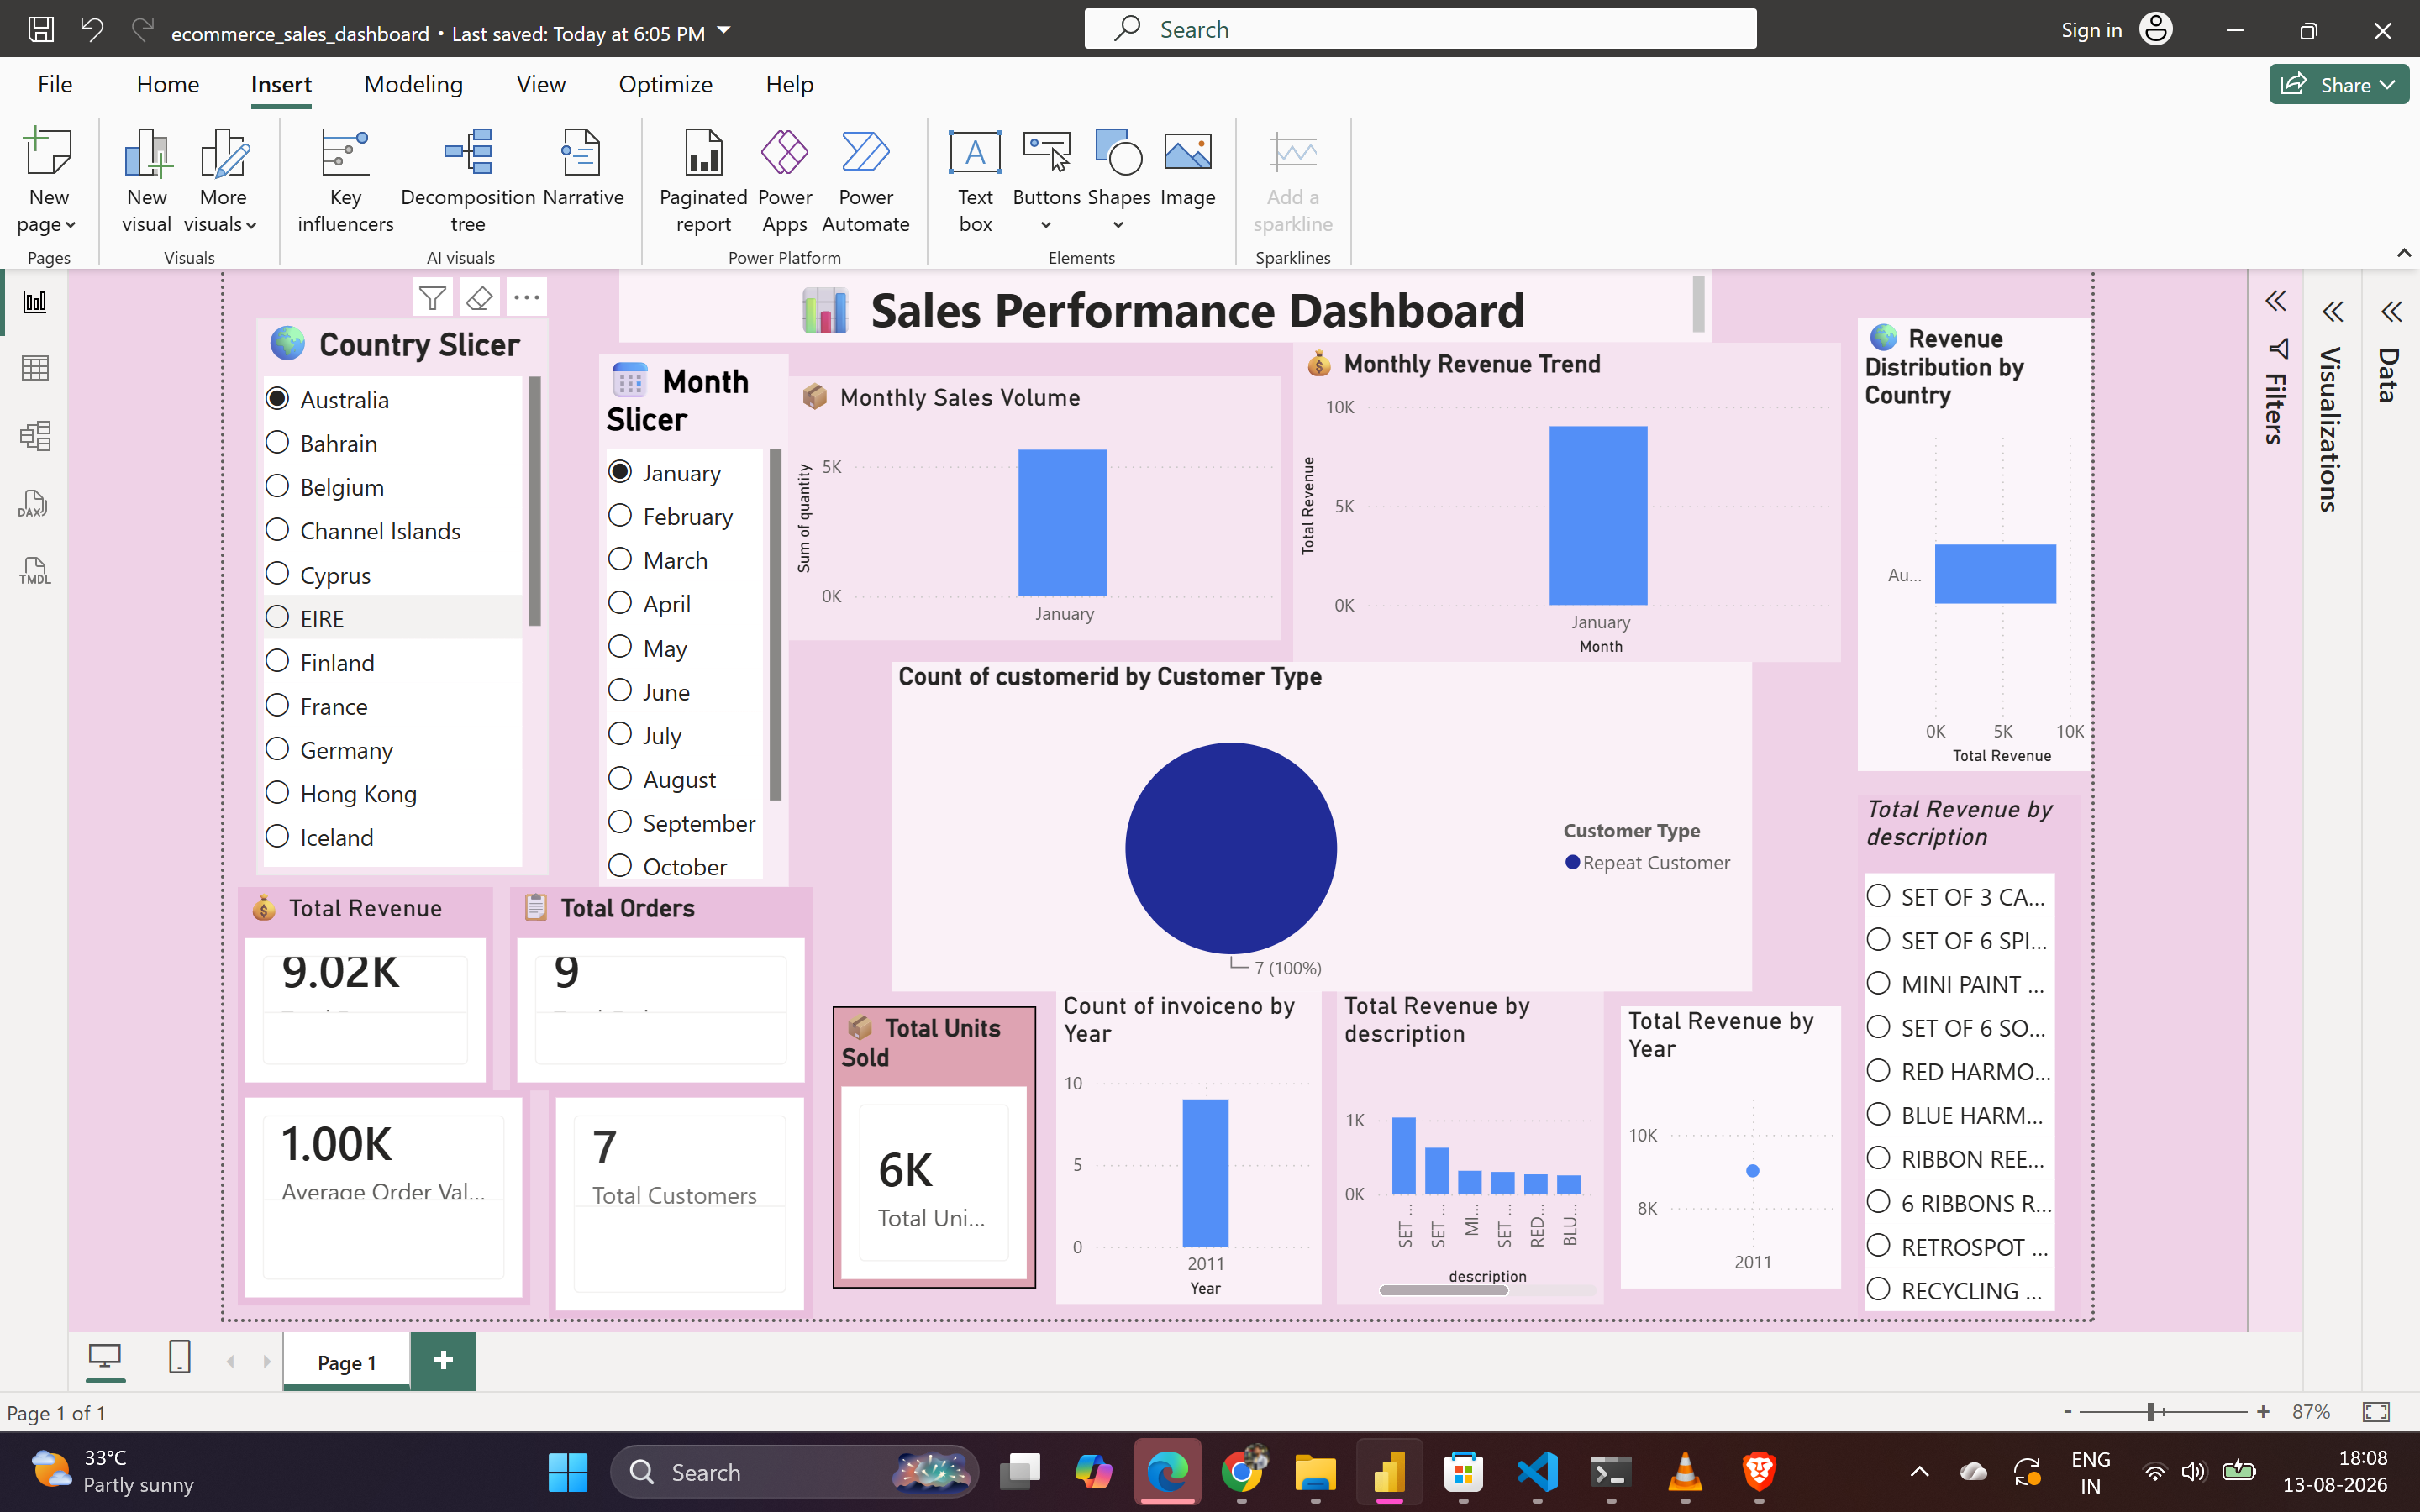

The dashboard page shown, as its layout file describes it:
{"tool":"powerbi","page":{"name":"Page 1","canvas":[1280,720],"ordinal":0},"visuals":[{"type":"cardVisual","title":"💰 Total Revenue","fields":{"Data":["public online_retail.Total Revenue"]},"box":[9.2,423.9,175.1,139.4],"z":0},{"type":"cardVisual","title":"📋 Total Orders","fields":{"Data":["public online_retail.Total Orders"]},"box":[195.8,423.9,207.4,139.4],"z":1000},{"type":"cardVisual","fields":{"Data":["public online_retail.Total Customers"]},"box":[222.3,563.3,180.9,156.7],"z":2000},{"type":"cardVisual","title":"📦 Total Units Sold","fields":{"Data":["public online_retail.Total Units Sold"]},"box":[417,505.7,139.4,193.5],"z":3000},{"type":"cardVisual","fields":{"Data":["public online_retail.Average Order Value"]},"box":[9.2,563.3,200.4,147.5],"z":4000},{"type":"listSlicer","fields":{"Values":["public online_retail.description"]},"box":[1119.7,360.6,153.2,359.4],"z":6000},{"type":"clusteredColumnChart","fields":{"Category":["public online_retail.description"],"Y":["public online_retail.Total Revenue"]},"box":[762.6,495.4,183.2,214.3],"z":7000},{"type":"pieChart","fields":{"Category":["public online_retail.Customer Type"],"Y":["Count(public online_retail.customerid)"]},"box":[457.3,269.6,589.8,225.8],"z":8000},{"type":"lineChart","fields":{"Y":["public online_retail.Total Revenue"],"Category":["public online_retail.invoicedate.Variation.Date Hierarchy.Year","public online_retail.invoicedate.Variation.Date Hierarchy.Quarter","public online_retail.invoicedate.Variation.Date Hierarchy.Month","public online_retail.invoicedate.Variation.Date Hierarchy.Day"]},"box":[957.3,505.7,150.9,193.5],"z":9000},{"type":"clusteredColumnChart","fields":{"Category":["public online_retail.invoicedate.Variation.Date Hierarchy.Year","public online_retail.invoicedate.Variation.Date Hierarchy.Quarter","public online_retail.invoicedate.Variation.Date Hierarchy.Month","public online_retail.invoicedate.Variation.Date Hierarchy.Day"],"Y":["Count(public online_retail.invoiceno)"]},"box":[570.2,495.4,182,214.3],"z":10000},{"type":"clusteredColumnChart","title":"📦 Monthly Sales Volume","fields":{"Category":["public online_retail.invoicedate.Variation.Date Hierarchy.Month"],"Y":["Sum(public online_retail.quantity)"]},"box":[387.1,73.7,337.5,180.9],"z":11000},{"type":"clusteredColumnChart","title":"💰 Monthly Revenue Trend","fields":{"Y":["public online_retail.Total Revenue"],"Category":["public online_retail.invoicedate.Variation.Date Hierarchy.Month"]},"box":[732.7,50.7,375.6,218.9],"z":12000},{"type":"clusteredBarChart","title":"🌍 Revenue Distribution by Country","fields":{"Category":["public online_retail.country"],"Y":["public online_retail.Total Revenue"]},"box":[1119.7,33.4,160.1,311],"z":13000},{"type":"textbox","box":[270.7,0,748.8,50.7],"z":14000},{"type":"listSlicer","title":"🌍 Country Slicer ","fields":{"Values":["public online_retail.country"]},"box":[21.9,33.4,200.4,382.5],"z":15000},{"type":"listSlicer","title":"📅 Month Slicer ","fields":{"Values":["public online_retail.invoicedate.Variation.Date Hierarchy.Month"]},"box":[256.9,58.8,130.2,365.2],"z":16000}]}

Visuals, with their boxes on the page's 1280x720 design canvas (x1, y1, x2, y2). These are canvas units, not pixel positions in the 2420x1512 screenshot, which may show the page scaled, cropped or inside an application window:
"💰 Total Revenue" cardVisual: rect(9, 424, 184, 563)
"📋 Total Orders" cardVisual: rect(196, 424, 403, 563)
cardVisual - public online_retail.Total Customers: rect(222, 563, 403, 720)
"📦 Total Units Sold" cardVisual: rect(417, 506, 556, 699)
cardVisual - public online_retail.Average Order Value: rect(9, 563, 210, 711)
listSlicer - public online_retail.description: rect(1120, 361, 1273, 720)
clusteredColumnChart - public online_retail.description x public online_retail.Total Revenue: rect(763, 495, 946, 710)
pieChart - public online_retail.Customer Type x Count(public online_retail.customerid): rect(457, 270, 1047, 495)
lineChart - public online_retail.Total Revenue x public online_retail.invoicedate.Variation.Date Hierarchy.Year: rect(957, 506, 1108, 699)
clusteredColumnChart - public online_retail.invoicedate.Variation.Date Hierarchy.Year x public online_retail.invoicedate.Variation.Date Hierarchy.Quarter: rect(570, 495, 752, 710)
"📦 Monthly Sales Volume" clusteredColumnChart: rect(387, 74, 725, 255)
"💰 Monthly Revenue Trend" clusteredColumnChart: rect(733, 51, 1108, 270)
"🌍 Revenue Distribution by Country" clusteredBarChart: rect(1120, 33, 1280, 344)
textbox: rect(271, 0, 1020, 51)
"🌍 Country Slicer " listSlicer: rect(22, 33, 222, 416)
"📅 Month Slicer " listSlicer: rect(257, 59, 387, 424)
